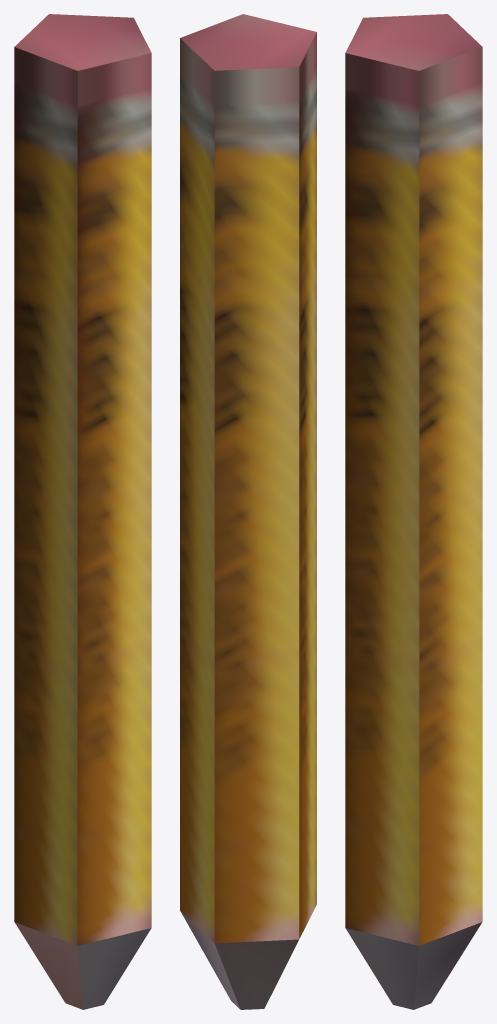
The model's file is Pencil.fbx.
The picture shows the model from 3 angles, left to right: view 1: azimuth 30°, elevation 25°; view 2: azimuth 150°, elevation 25°; view 3: azimuth 330°, elevation 25°; orthographic projection.
Visible parts, largest first — view 1: Pencil; view 2: Pencil; view 3: Pencil.
Boxes of the visible parts, box(x1,y1,x2,y2) form: Pencil: box(14, 14, 151, 1009); Pencil: box(180, 14, 316, 1009); Pencil: box(345, 14, 482, 1009).
Bounding box in the file's own units: 52.51 × 403 × 49.94.
